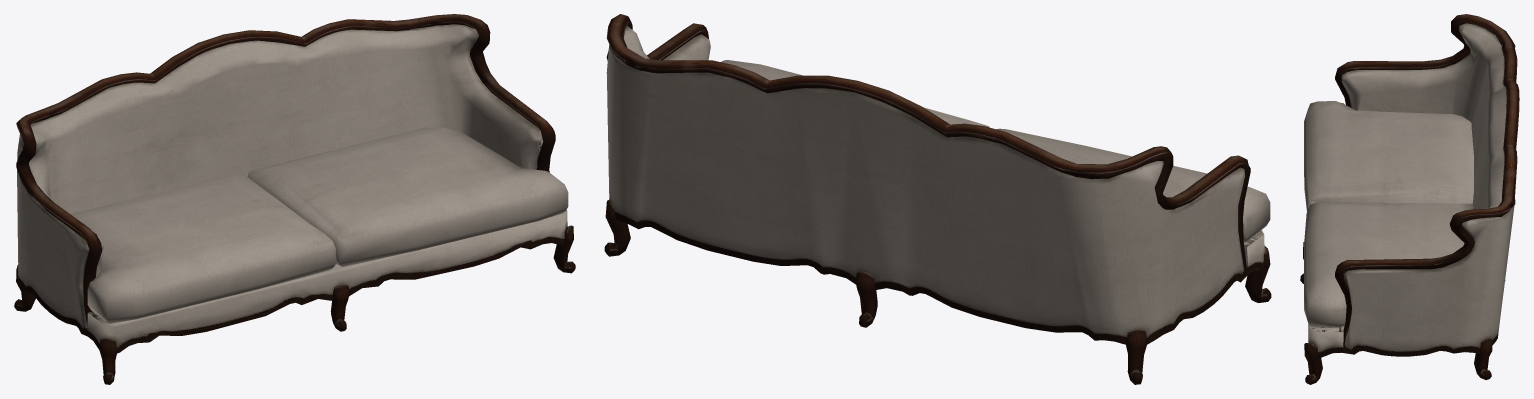
The model's file is Sofa_01_lod1.glb.
The picture shows the model from 3 angles, left to right: view 1: azimuth 30°, elevation 25°; view 2: azimuth 150°, elevation 25°; view 3: azimuth 270°, elevation 25°; orthographic projection. The views are drawn at different scales.
Visible parts, largest first — view 1: Sofa_01; view 2: Sofa_01; view 3: Sofa_01.
Part boxes in pixels (<box>): Sofa_01: <box>14,14,575,384</box>; Sofa_01: <box>604,14,1271,384</box>; Sofa_01: <box>1300,14,1519,384</box>.
Size of the model in its own units: 2 by 0.8489 by 0.9.
Materials: 1 (1 with a texture image).
